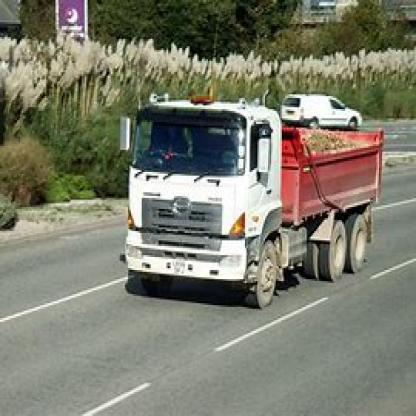dump_truck: (111, 81, 414, 307)
